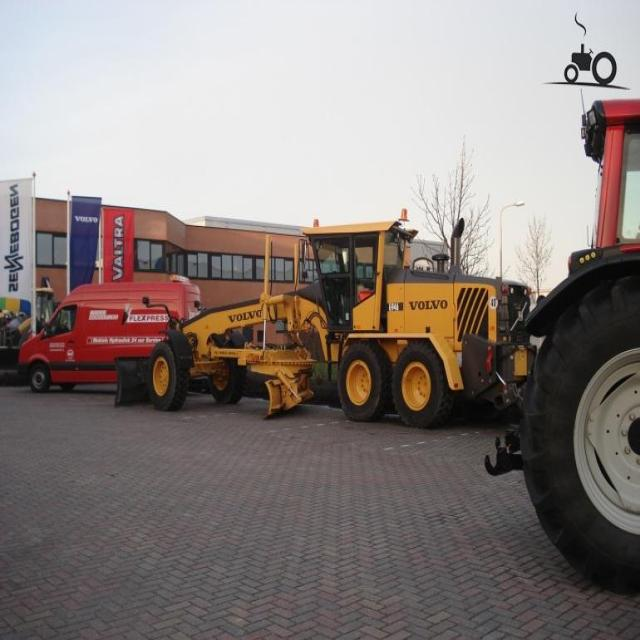buldozerpayloadergrader: (105, 212, 550, 438)
